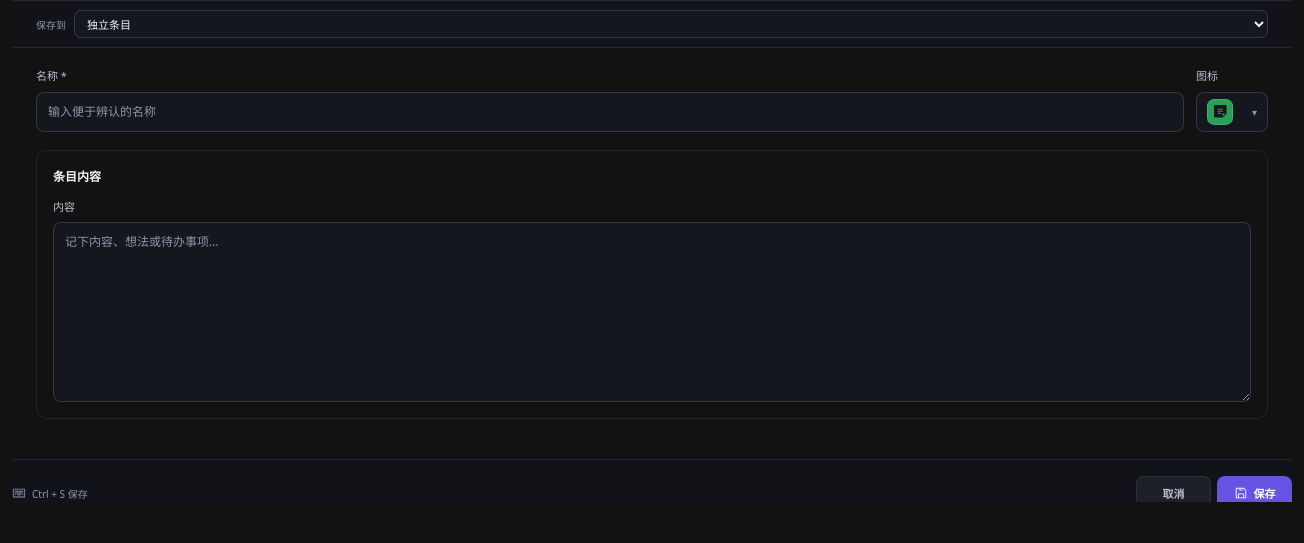
Test case: ItemForm validation › a missing name › is shown right under the field, with the cursor in it and the field marked invalid
Click the button with test id "item-save".
click(1254, 493)  # box 1217,476 -> 1292,510
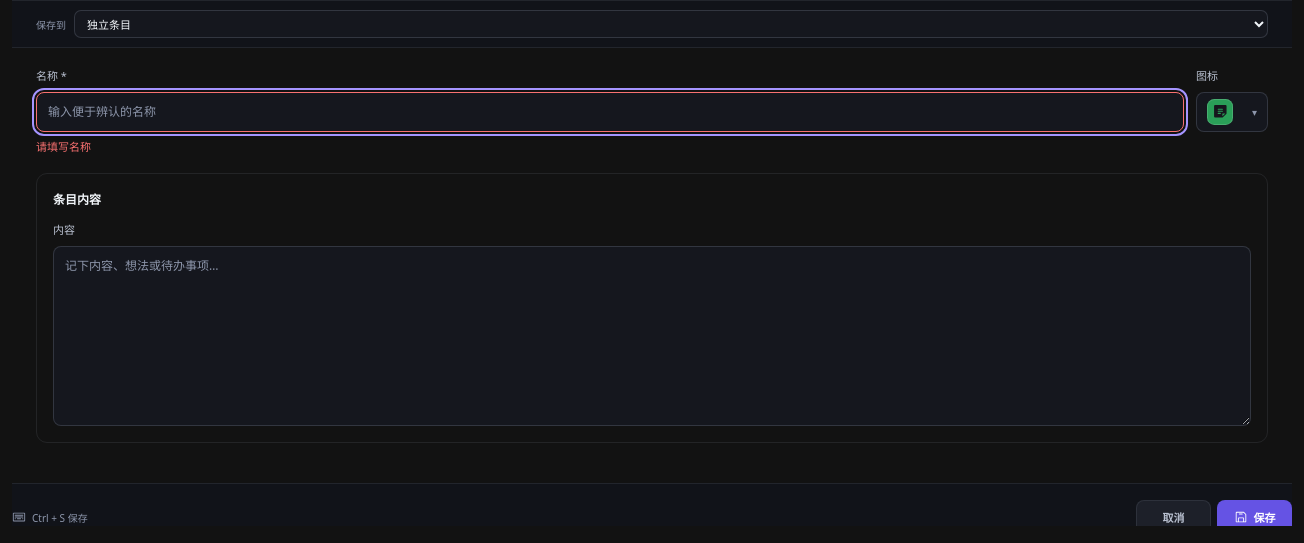
Expected: the message reads "请填写名称", 36,138 -> 91,154
